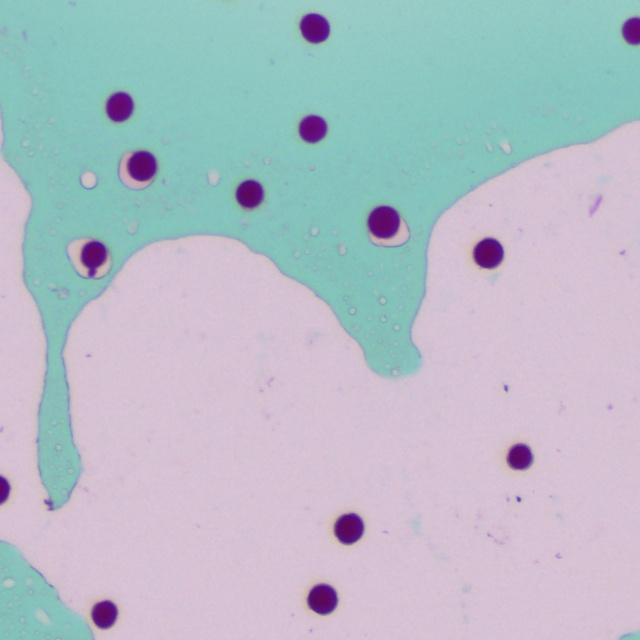viable: (368, 205, 399, 237), (307, 584, 337, 614), (127, 150, 156, 181), (474, 238, 503, 268), (334, 513, 363, 543), (300, 13, 329, 43), (236, 180, 263, 208), (299, 115, 326, 143), (106, 92, 132, 121), (81, 240, 106, 268), (92, 601, 117, 628), (507, 444, 532, 468), (622, 17, 639, 44), (0, 476, 10, 503)
